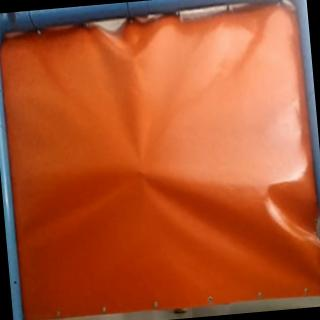Hit-hRxx: (131, 164, 149, 180)
